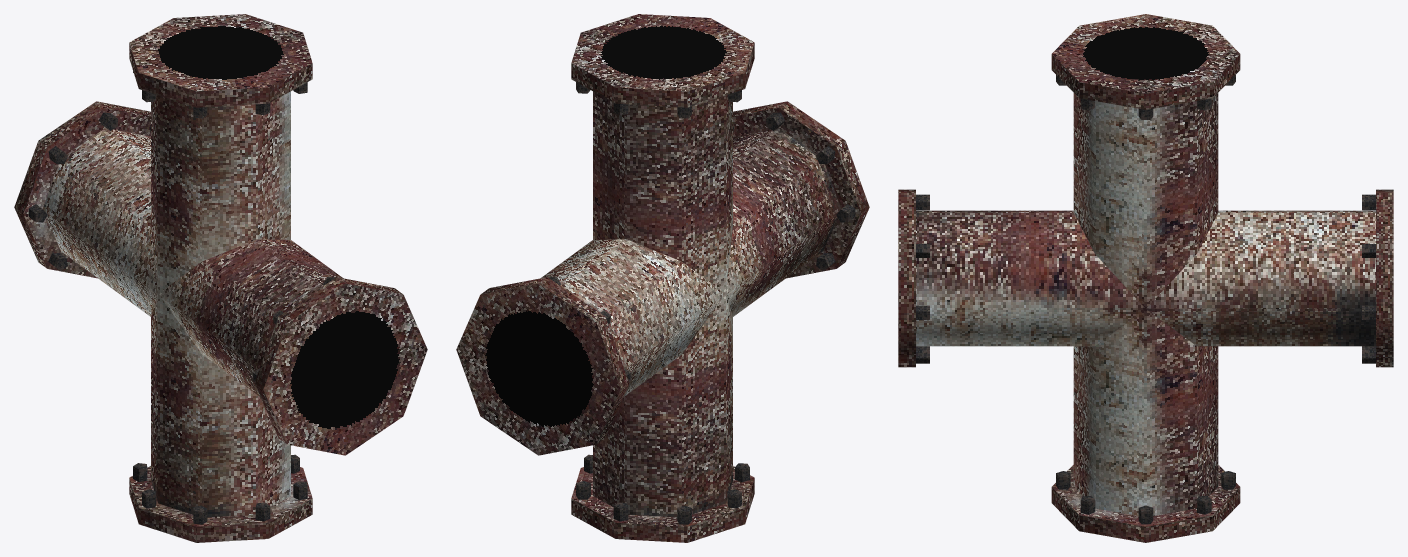
File: pipe_corner.glb
3 views of the same model, side by side, from view 1: azimuth 30°, elevation 25°; view 2: azimuth 150°, elevation 25°; view 3: azimuth 270°, elevation 25° (orthographic).
Parts seen in each view (by area): view 1: Pipe_002; view 2: Pipe_002; view 3: Pipe_002.
Boxes of the visible parts, x1,y1,x2,y2 form: Pipe_002: [14, 14, 427, 542]; Pipe_002: [456, 14, 869, 542]; Pipe_002: [898, 14, 1393, 542].
Size of the model in its own units: 0.3978 by 1.04 by 1.04.
1 material, 1 textured.
